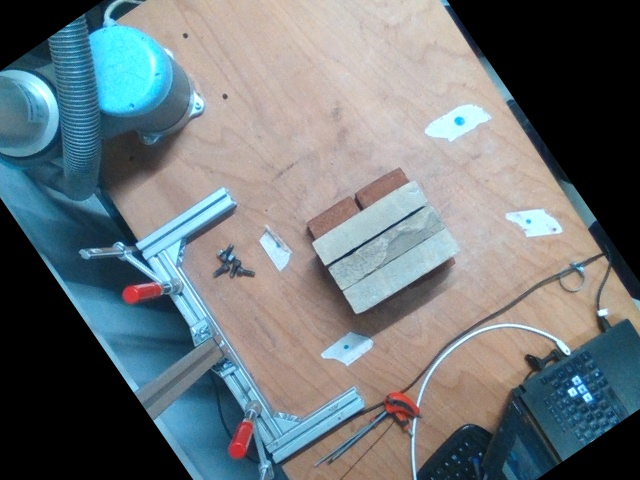brick-side: (343, 227, 462, 313), (311, 179, 430, 265), (328, 204, 446, 290)
